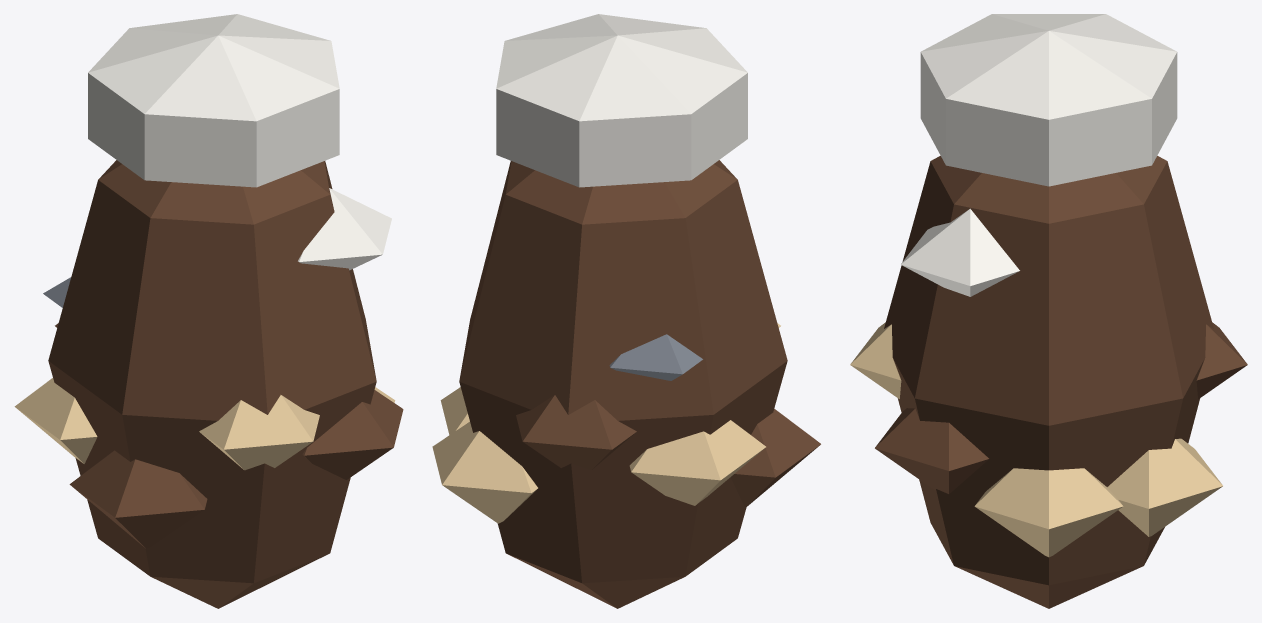
Rendered from deco_snowy_pinecone.obj.
3 renders of one model, left to right at view 1: azimuth 30°, elevation 25°; view 2: azimuth 150°, elevation 25°; view 3: azimuth 270°, elevation 25°, orthographic.
Parts seen in each view (by area): view 1: deco_snowy_pinecone; view 2: deco_snowy_pinecone; view 3: deco_snowy_pinecone.
Part boxes in pixels (<box>): deco_snowy_pinecone: <box>14,14,403,608</box>; deco_snowy_pinecone: <box>432,14,820,608</box>; deco_snowy_pinecone: <box>850,14,1247,608</box>.
Size of the model in its own units: 0.0157 by 0.026 by 0.0162.
1 material, 1 textured.
